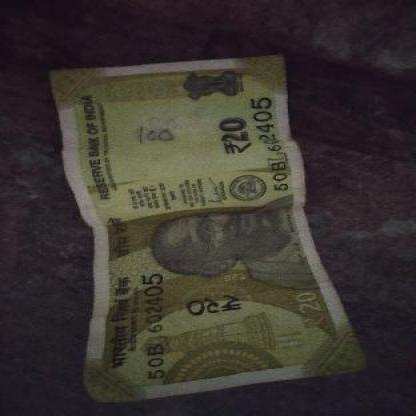New20Front: (61, 69, 342, 384)
